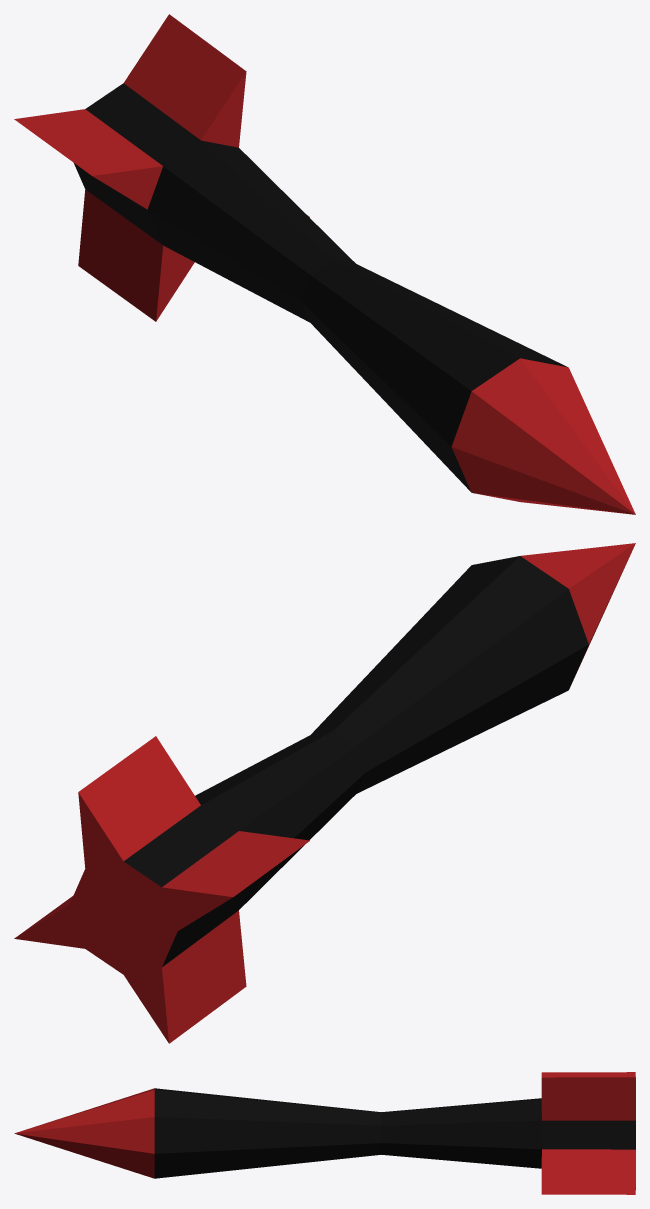
Rendered from SmallRocket.fbx.
3 views of the same model, one above another, from view 1: azimuth 30°, elevation 25°; view 2: azimuth 150°, elevation 25°; view 3: azimuth 270°, elevation 25° (orthographic). The views are drawn at different scales.
Visible parts, largest first — view 1: Rocket; view 2: Rocket; view 3: Rocket.
Part boxes in pixels (x1,y1,x2,y2): Rocket: (14,14,635,514); Rocket: (14,543,635,1043); Rocket: (14,1072,635,1194).
Size of the model in its own units: 0.3194 by 1.29 by 0.3194.
